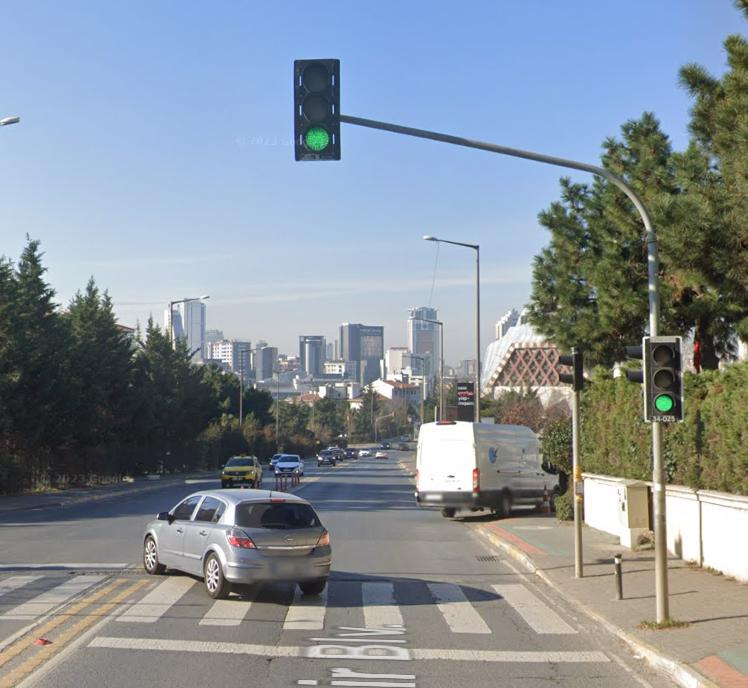greenlight: (296, 58, 341, 161), (646, 338, 680, 413)
